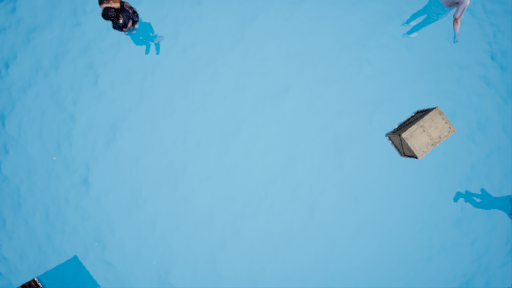person: (98, 3, 170, 60)
